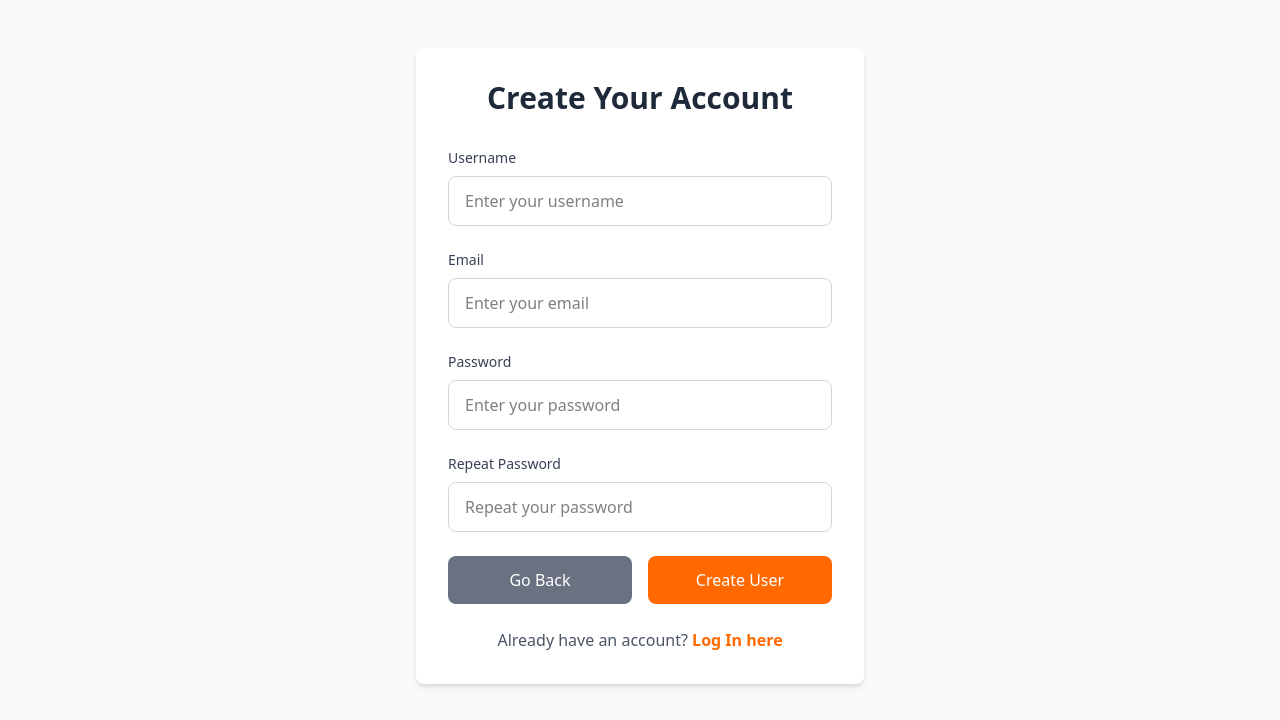
Test case: Register Component › successfully registers a user and shows success modal
This screenshot has width=1280, height=720.
# Fill out the form
Type "testuser" into the field labelled "Username" at (640, 201), box top-left (448, 176), bottom-right (832, 226)
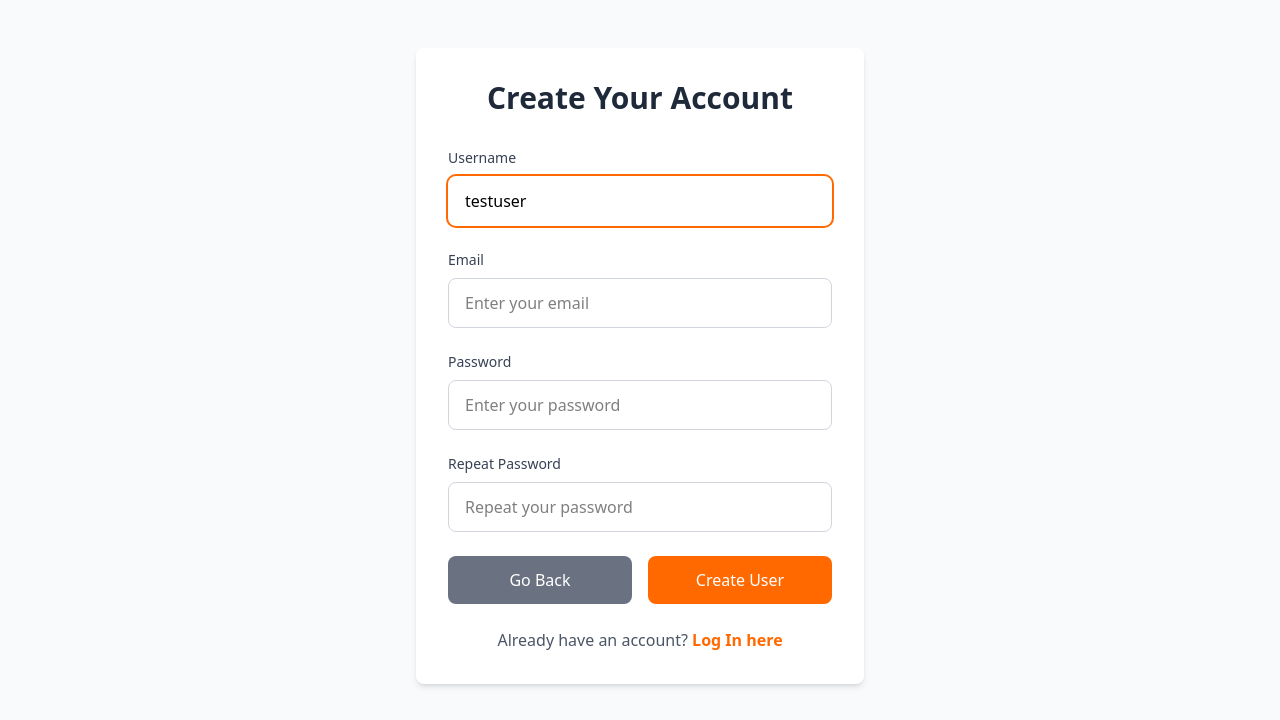
Type "test@example.com" into the field labelled "Email" at (640, 303), box top-left (448, 278), bottom-right (832, 328)
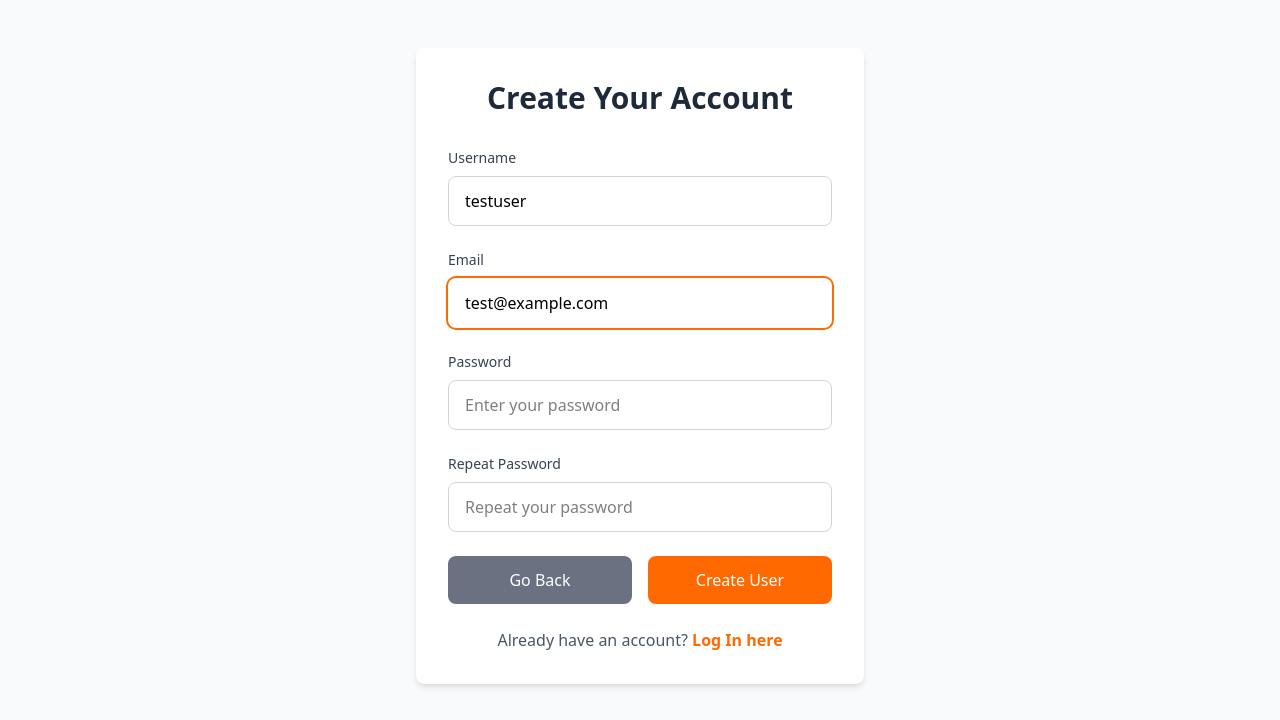
Type "password123" into the password field labelled "Password" at (640, 405), box top-left (448, 380), bottom-right (832, 430)
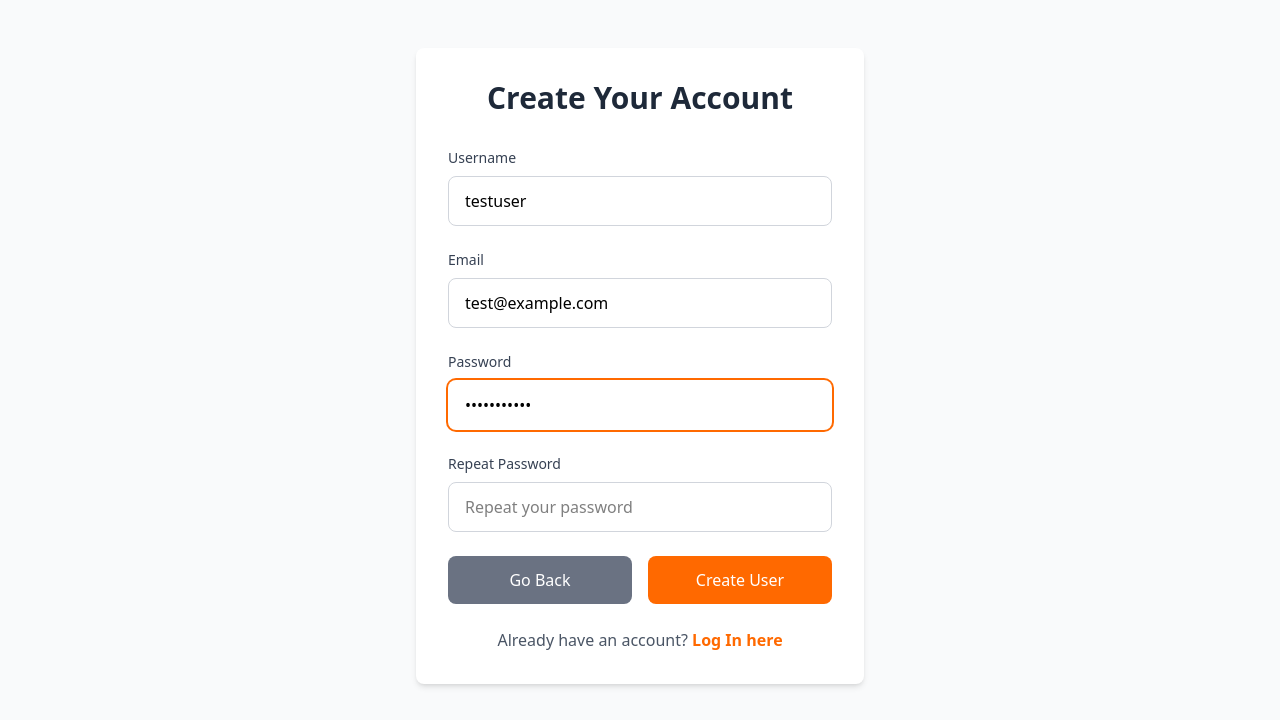
Type "password123" into the password field labelled "Repeat Password" at (640, 507), box top-left (448, 482), bottom-right (832, 532)
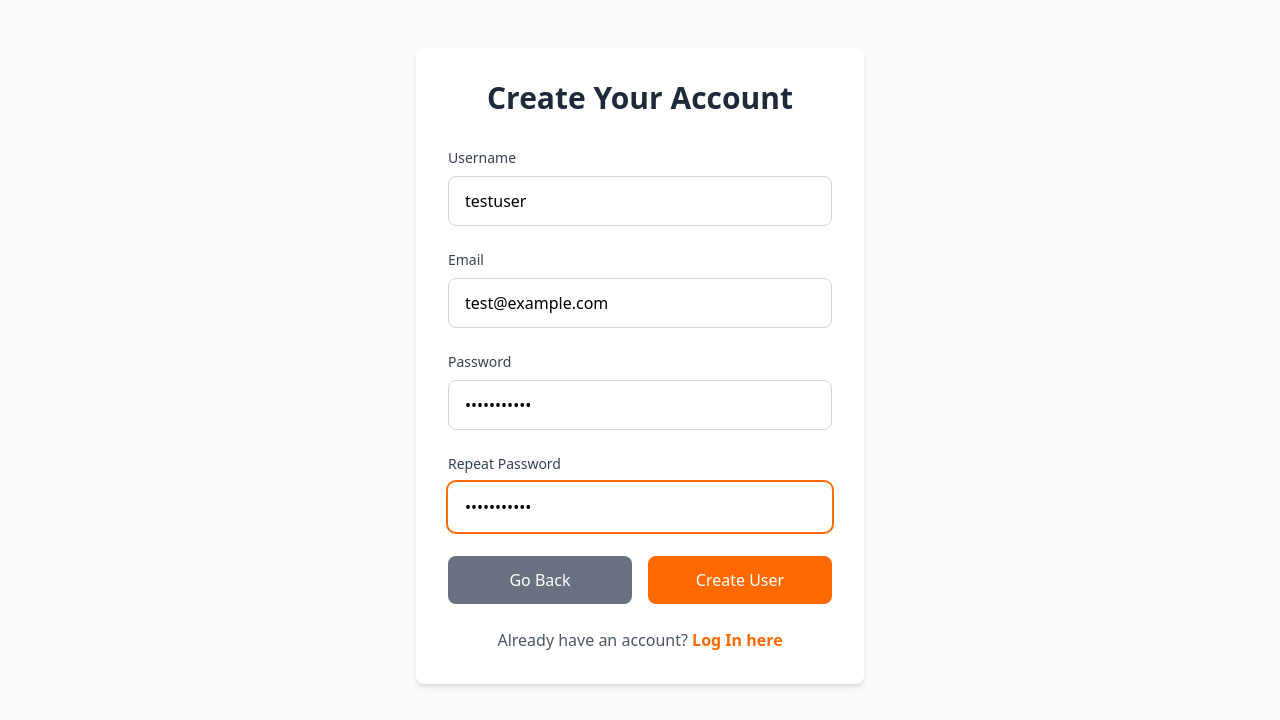
# Submit the form
Click the button "Create User" at (740, 580), box top-left (648, 556), bottom-right (832, 604)
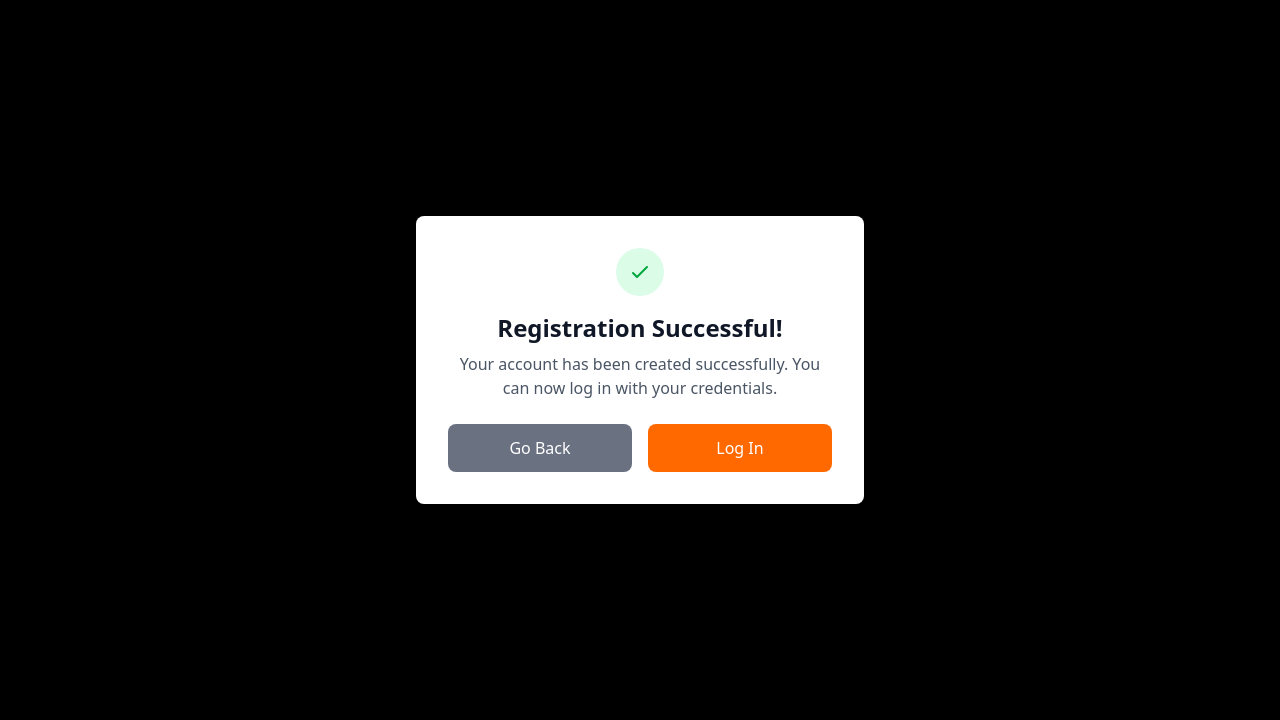
expect the heading "Registration Successful!" is shown: met, box top-left (497, 311), bottom-right (783, 344)
expect the text "Your account has been created successfully" is shown: met, box top-left (460, 353), bottom-right (820, 399)
